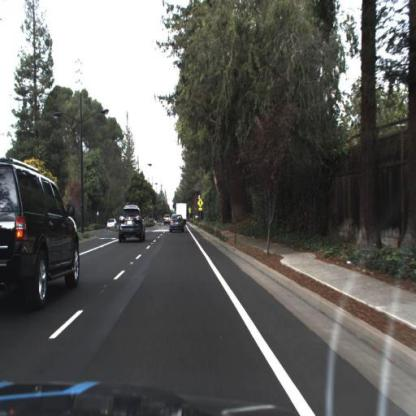car: (1, 157, 82, 312), (117, 204, 147, 245), (167, 212, 188, 234), (163, 211, 173, 228), (106, 219, 118, 230)
truck: (176, 200, 189, 222)
